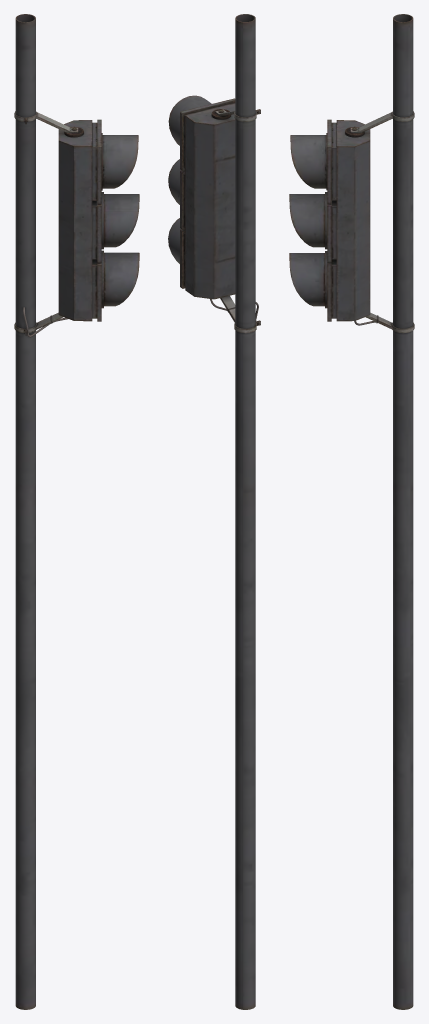
File: traffic-light.glb
3 renders of one model, left to right at view 1: azimuth 90°, elevation 25°; view 2: azimuth 210°, elevation 25°; view 3: azimuth 270°, elevation 25°, orthographic.
Visible parts, largest first — view 1: traffic-light; view 2: traffic-light; view 3: traffic-light.
Boxes of the visible parts, <box> form: traffic-light: <box>14,14,139,1009</box>; traffic-light: <box>168,14,260,1009</box>; traffic-light: <box>289,14,414,1009</box>.
Size of the model in its own units: 0.212 by 3.6 by 0.4133.
4 materials, 4 textured.
